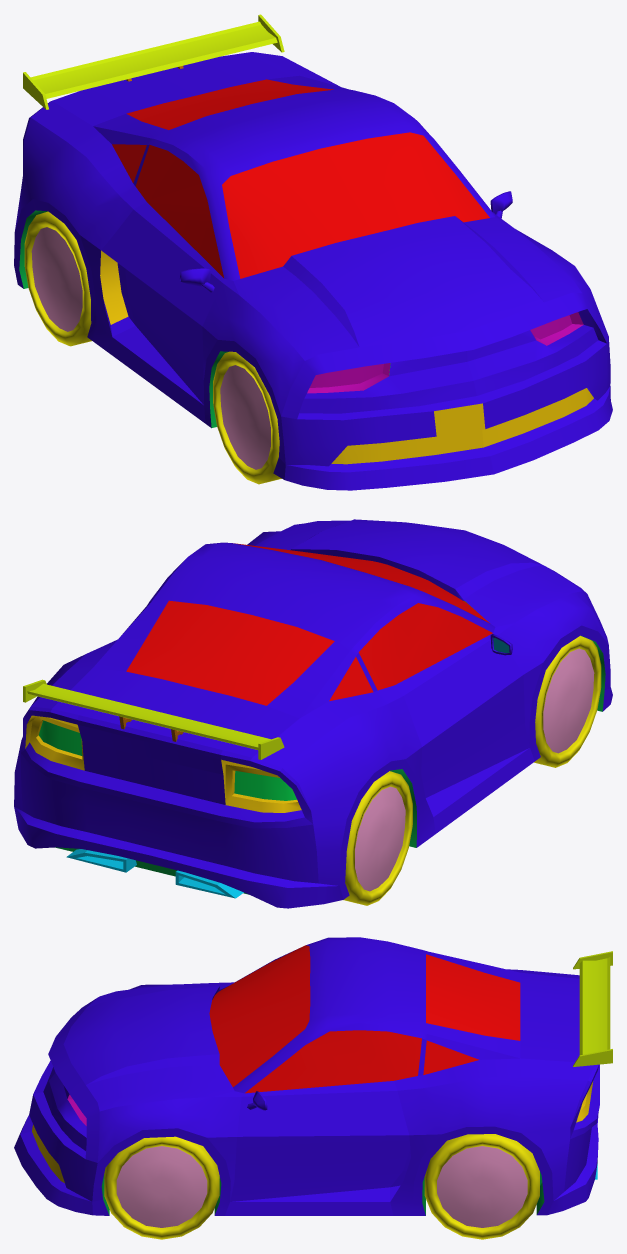
The model's file is 11_VenomInferno_ColorCoded.fbx.
3 renders of one model, top to bottom at view 1: azimuth 30°, elevation 25°; view 2: azimuth 150°, elevation 25°; view 3: azimuth 270°, elevation 25°, orthographic. The views are drawn at different scales.
Visible parts, largest first — view 1: Body, Spoiler, tireBackR, tireFrontR; view 2: Body, tireBackR, tireFrontR, Spoiler; view 3: Body, tireBackL, tireFrontL, Spoiler.
Part boxes in pixels (x1,y1,x2,y2): Body: (14,52,612,490); Spoiler: (23,14,284,109); tireBackR: (24,211,91,346); tireFrontR: (213,351,281,484); Body: (14,519,612,908); tireBackR: (343,771,412,905); tireFrontR: (534,635,601,767); Spoiler: (23,679,284,759); Body: (14,937,599,1215); tireBackL: (424,1134,539,1239); tireFrontL: (104,1136,219,1239); Spoiler: (573,951,612,1066).
Bounding box in the file's own units: 63.16 × 116 × 42.78.
